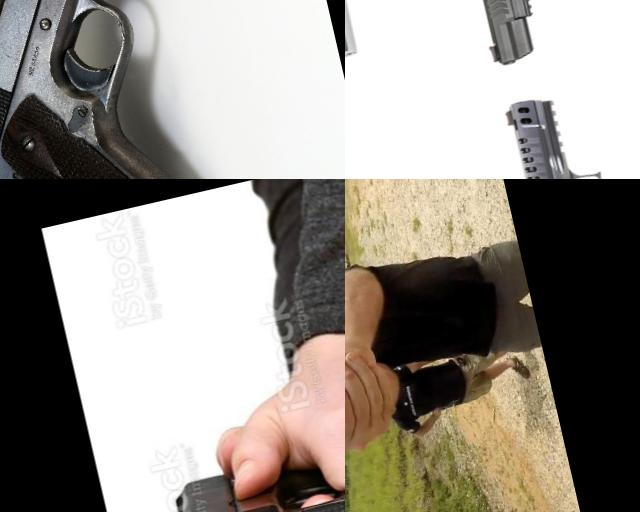handgun: (0, 0, 263, 179), (148, 400, 345, 512), (499, 65, 640, 179), (453, 0, 640, 81), (345, 0, 468, 77), (345, 369, 397, 472), (345, 152, 529, 179)
